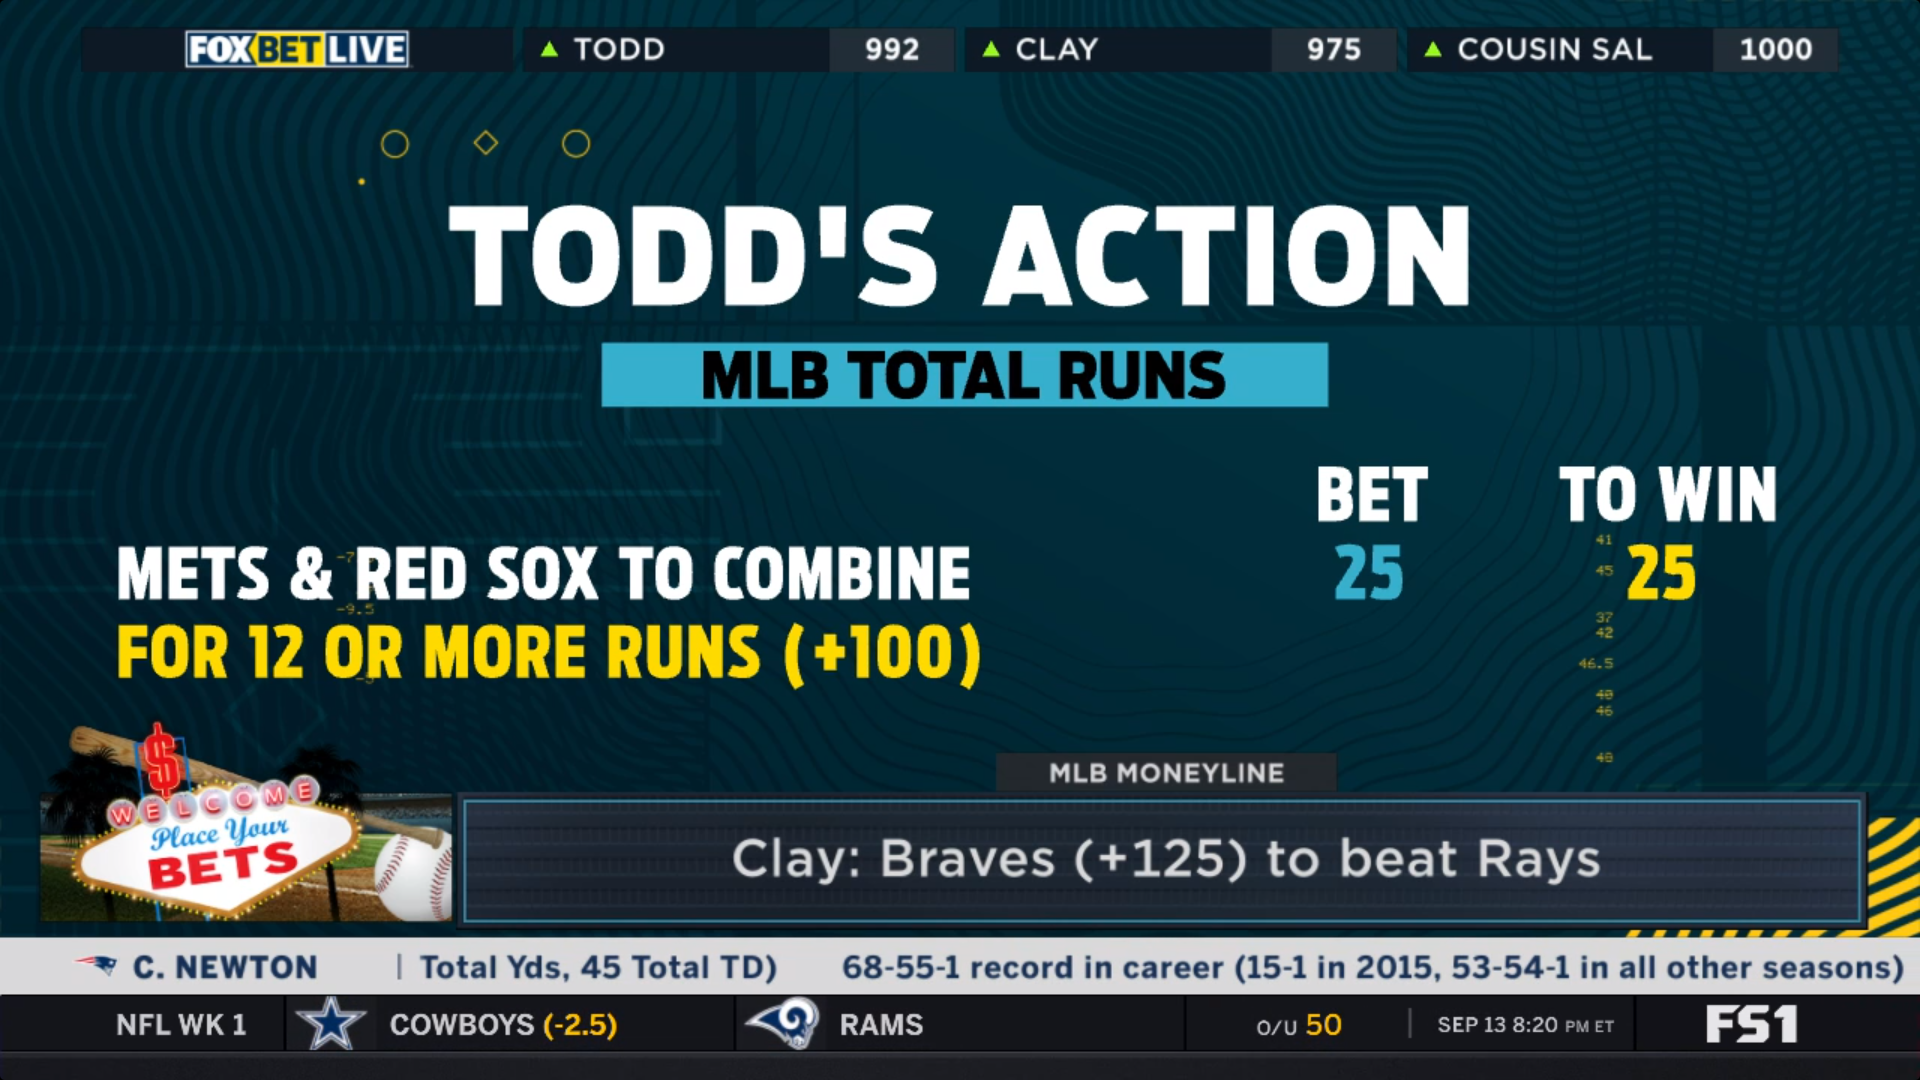Bet: (104, 533, 1000, 705)
Bet Amount: (1307, 454, 1440, 621)
Subtitle: (593, 334, 1341, 415)
Title: (433, 189, 1484, 319)
To Win: (1548, 454, 1792, 616)
Top Bar: (73, 17, 1851, 80)
